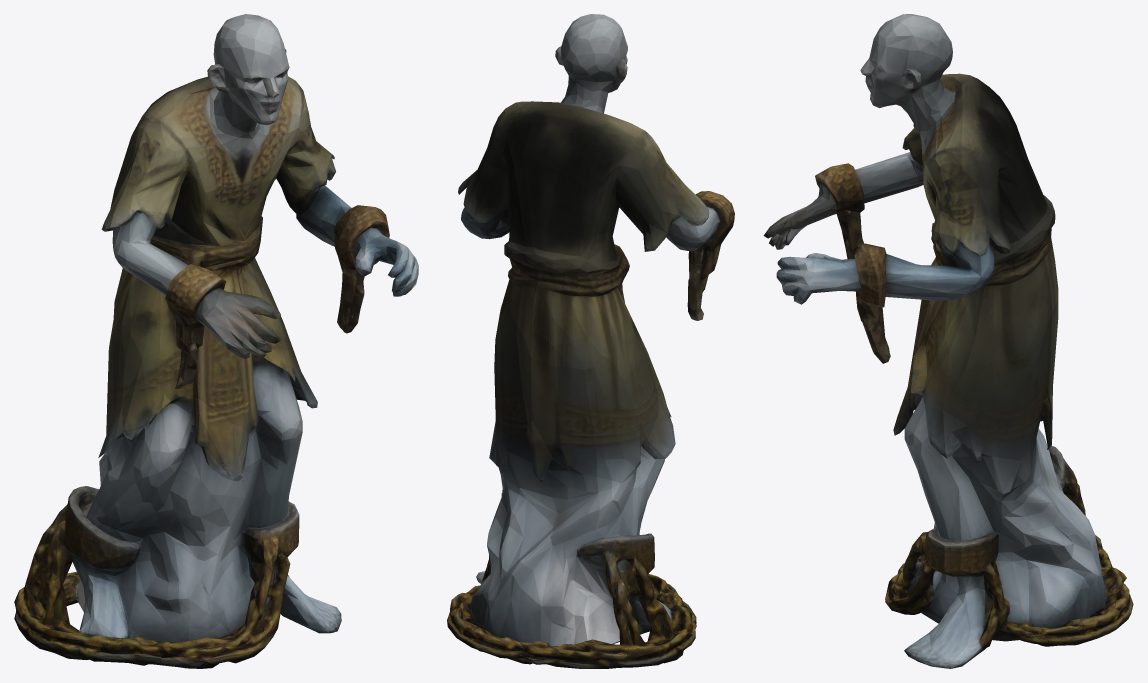
Rendered from cellGhost.glb.
The picture shows the model from 3 angles, left to right: view 1: azimuth 30°, elevation 25°; view 2: azimuth 150°, elevation 25°; view 3: azimuth 270°, elevation 25°; orthographic projection. The views are drawn at different scales.
Parts seen in each view (by area): view 1: world; view 2: world; view 3: world.
Part boxes in pixels (x1,y1,x2,y2): world: [14, 14, 418, 668]; world: [447, 14, 734, 668]; world: [763, 14, 1133, 668].
Bounding box in the file's own units: 0.4631 × 0.999 × 0.5562.
Materials: 1 (1 with a texture image).
